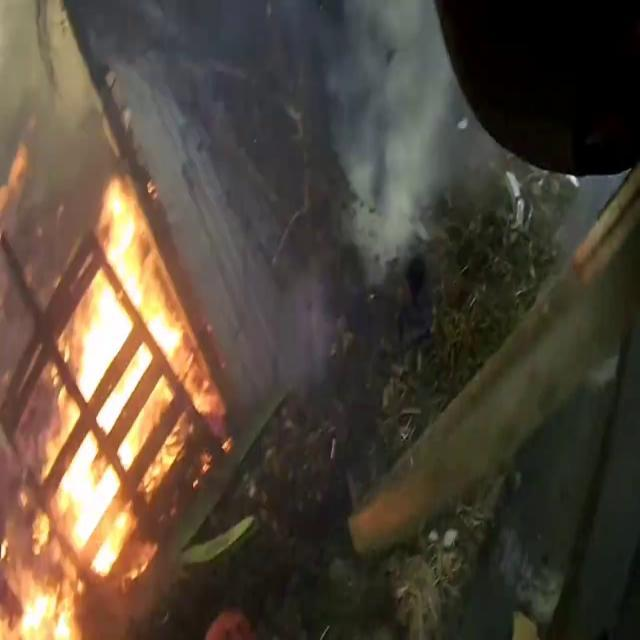Fire: (3, 168, 227, 630)
Smoke: (312, 1, 466, 282)
